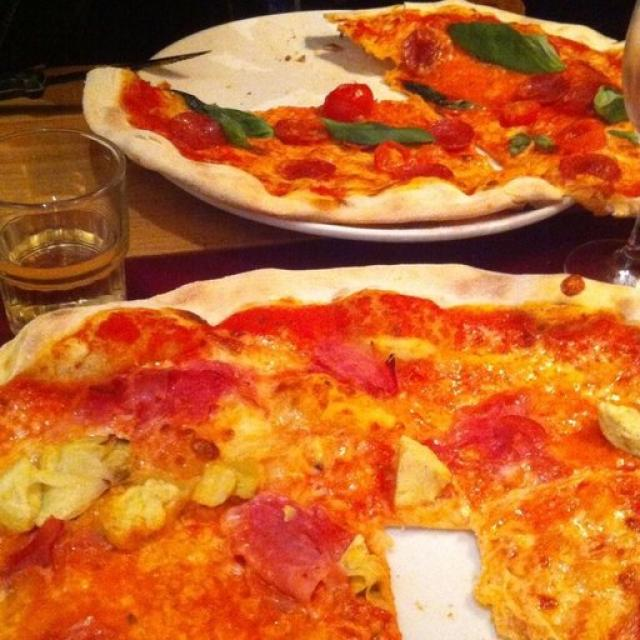Pizza: (0, 264, 640, 640)
